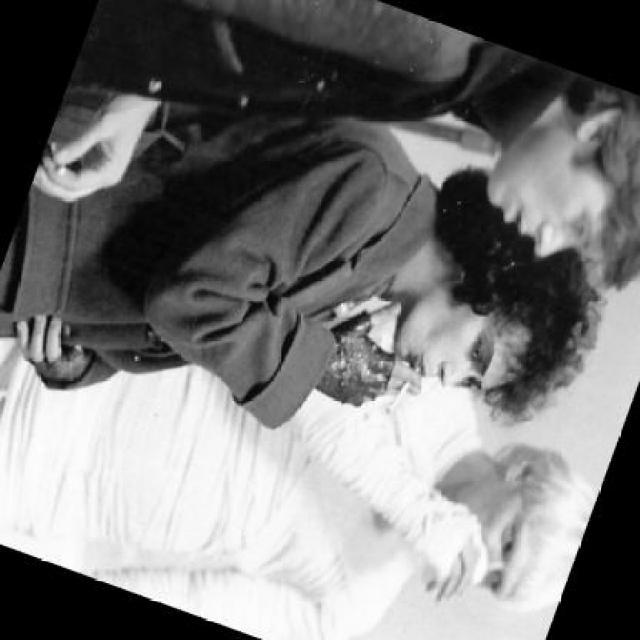cigarette: (379, 358, 421, 422)
